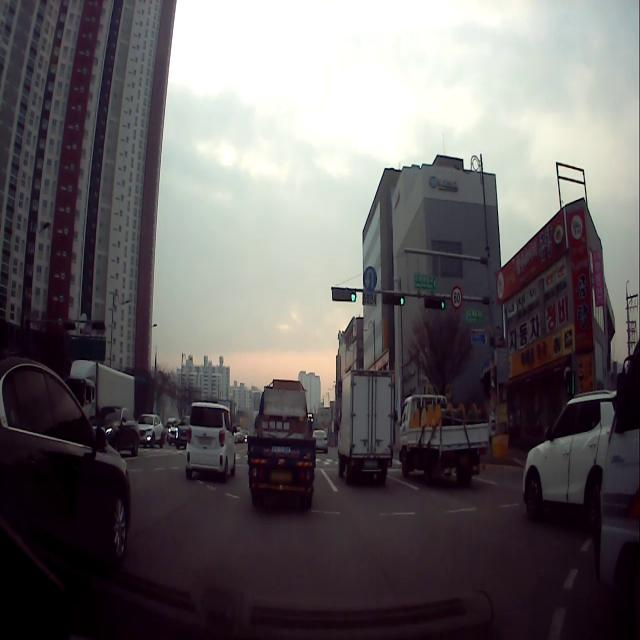Green Light: (349, 290, 357, 304), (440, 296, 446, 311), (398, 295, 405, 307)
